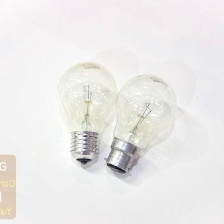light_bulb: (49, 54, 124, 172), (101, 69, 182, 178)
